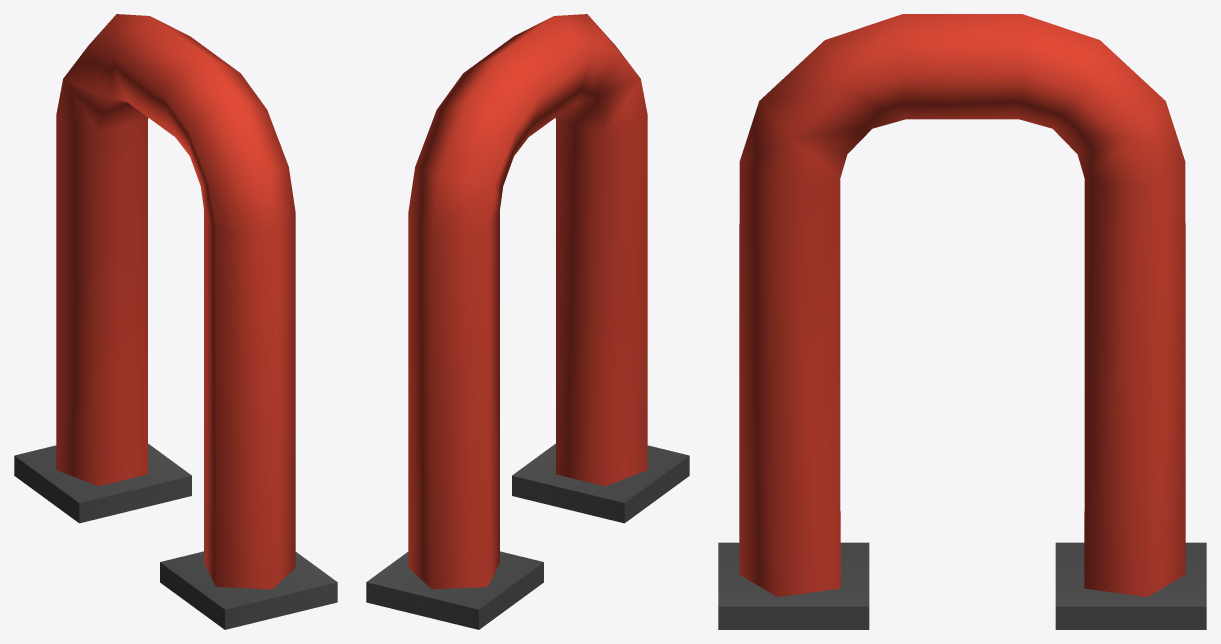
The model's file is Bollards_3_C.glb.
3 views of the same model, side by side, from view 1: azimuth 30°, elevation 25°; view 2: azimuth 150°, elevation 25°; view 3: azimuth 270°, elevation 25° (orthographic). The views are drawn at different scales.
Parts seen in each view (by area): view 1: Bollards_3_C; view 2: Bollards_3_C; view 3: Bollards_3_C.
Boxes of the visible parts, left/top/right/bottom form: Bollards_3_C: left=14, top=14, right=337, bottom=629; Bollards_3_C: left=366, top=14, right=689, bottom=629; Bollards_3_C: left=718, top=14, right=1206, bottom=629.
Bounding box in the file's own units: 0.153 × 0.6537 × 0.4951.
1 material, 1 textured.
